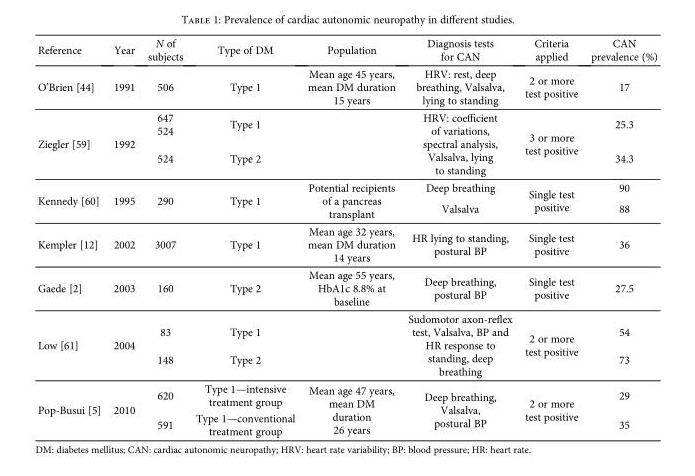table: (36, 36, 656, 437)
table column: (401, 36, 517, 437), (188, 36, 300, 437), (300, 36, 401, 437), (583, 36, 656, 437), (36, 36, 106, 437), (517, 36, 583, 437), (140, 36, 188, 437), (106, 36, 140, 437)
table column header: (36, 36, 656, 64)
table row: (36, 64, 656, 108), (36, 265, 656, 309), (36, 222, 656, 265), (36, 108, 656, 144), (36, 309, 656, 345), (36, 144, 656, 178), (36, 345, 656, 379), (36, 379, 656, 409), (36, 36, 656, 64), (36, 409, 656, 437), (36, 197, 656, 222), (36, 178, 656, 197)
table spanning cell: (401, 108, 517, 178), (401, 309, 517, 379), (401, 379, 517, 437), (300, 379, 401, 437), (188, 178, 300, 222), (36, 108, 106, 178), (36, 309, 106, 379), (517, 108, 583, 178), (517, 309, 583, 379), (300, 178, 401, 222), (36, 379, 106, 437), (517, 379, 583, 437), (36, 178, 106, 222), (517, 178, 583, 222), (106, 108, 140, 178), (106, 309, 140, 379), (140, 178, 188, 222), (106, 379, 140, 437), (106, 178, 140, 222)
